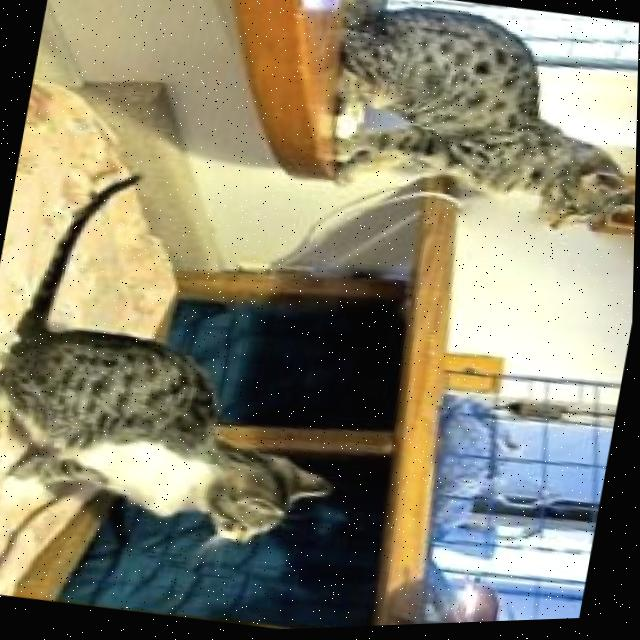Egyptian Mau: (0, 149, 392, 571), (285, 0, 640, 258)
